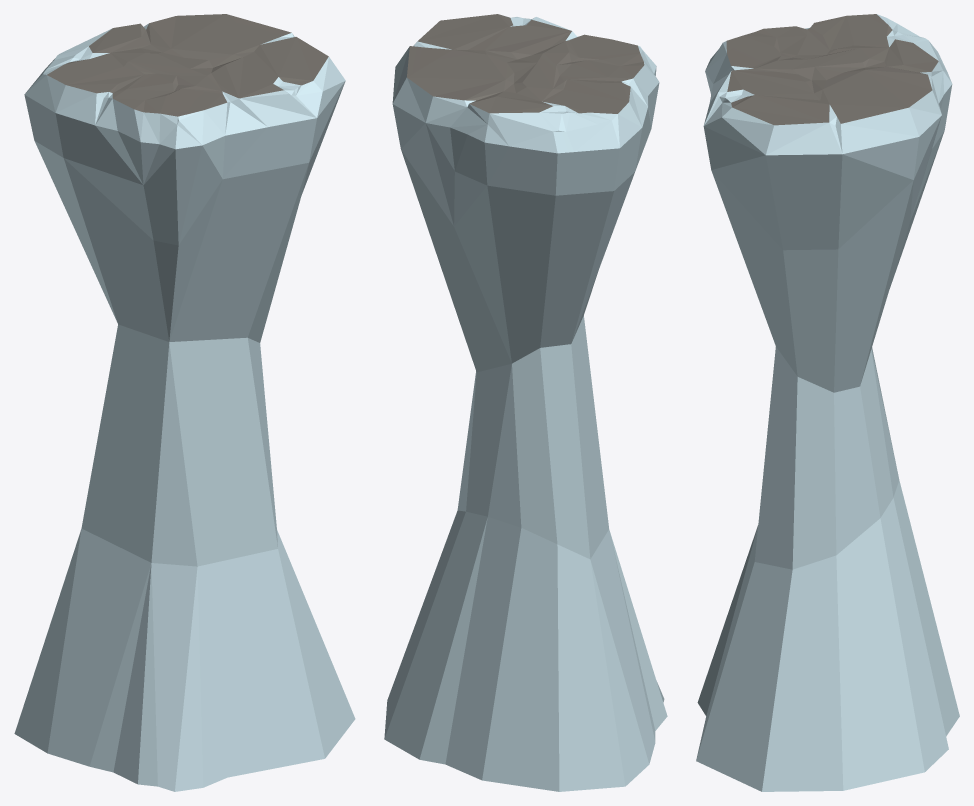
File: base_platform.glb
3 views of the same model, side by side, from view 1: azimuth 30°, elevation 25°; view 2: azimuth 150°, elevation 25°; view 3: azimuth 270°, elevation 25° (orthographic).
Parts seen in each view (by area): view 1: SM_Env_Rock_Flat_Platform_05; view 2: SM_Env_Rock_Flat_Platform_05; view 3: SM_Env_Rock_Flat_Platform_05.
Part boxes in pixels (box(x1,y1,x2,y2)): SM_Env_Rock_Flat_Platform_05: box(14, 14, 355, 791); SM_Env_Rock_Flat_Platform_05: box(384, 14, 667, 791); SM_Env_Rock_Flat_Platform_05: box(696, 14, 959, 791).
Bounding box in the file's own units: 0.0258 × 0.0604 × 0.022.
1 material, 1 textured.
